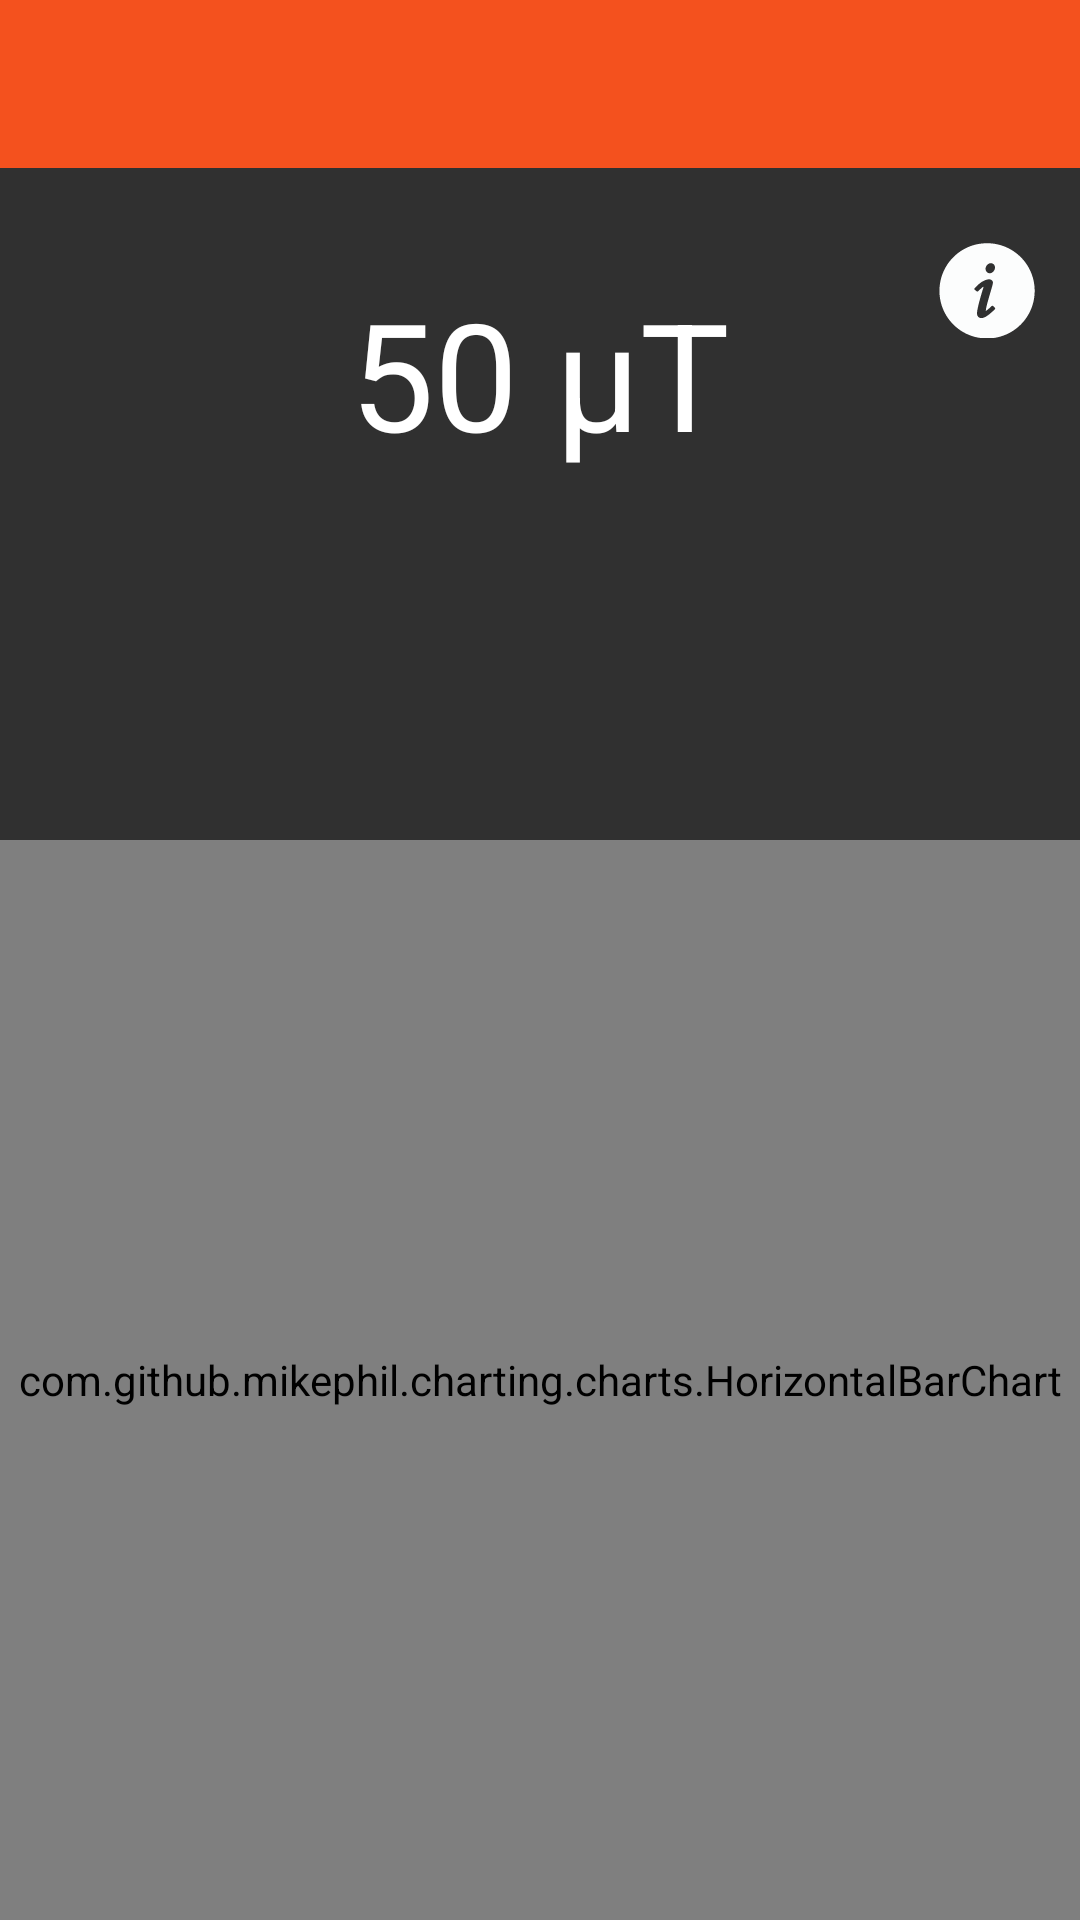

Screen size 1080*1920. Icon name, then its box in pixels as bbox=(x1, y1, x2, y2):
info: bbox=(939, 243, 1035, 338)
